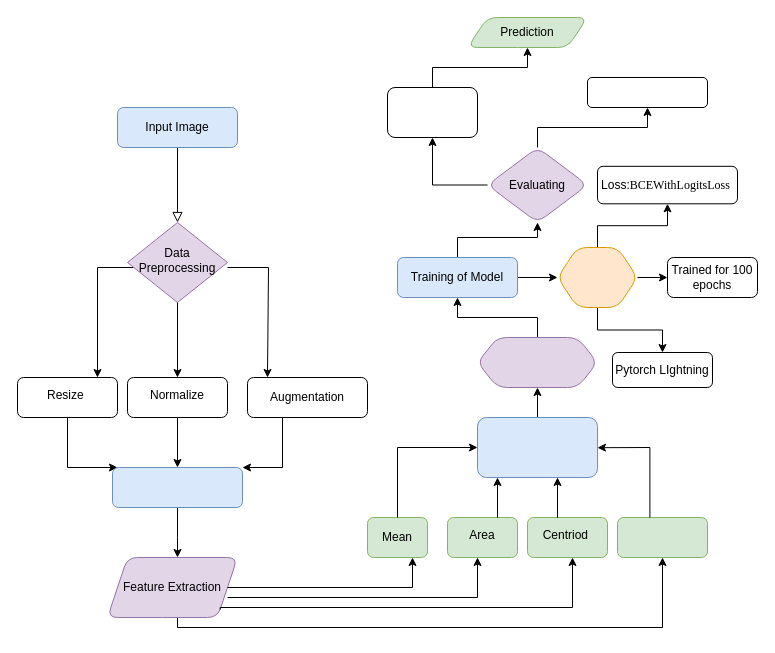
This 775x653 diagram has some shape labels left out. The centre of each missing label's shape, as x and y in pixels:
"Continue Training" goes at point (647, 92).
"DFUGCN Model" goes at point (537, 362).
"Eccentricity Analysis" goes at point (662, 537).
"Features" goes at point (597, 277).
"Graph Formation Using RAG" goes at point (537, 447).
"Image Segmentation uisng SLIC" goes at point (177, 487).
"Save best model based on val_acc" goes at point (432, 112).
